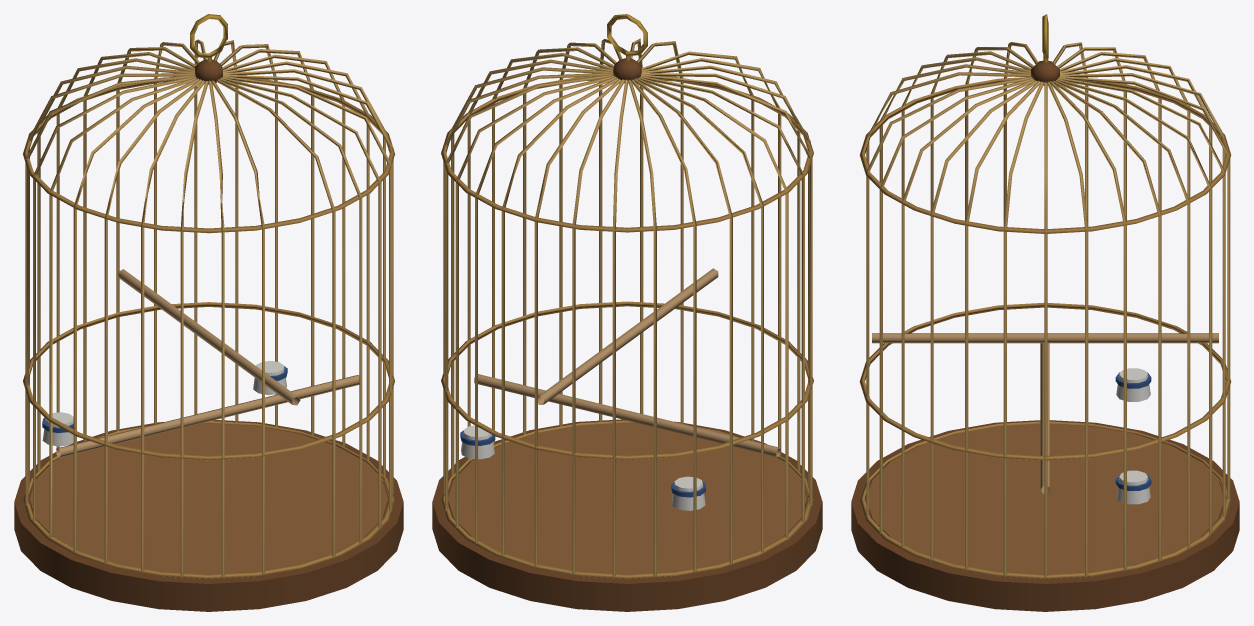
Rendered from long_tre.glb.
3 renders of one model, left to right at view 1: azimuth 30°, elevation 25°; view 2: azimuth 150°, elevation 25°; view 3: azimuth 270°, elevation 25°, orthographic.
Parts seen in each view (by area): view 1: long_tre; view 2: long_tre; view 3: long_tre.
Boxes of the visible parts, x1,y1,x2,y2 form: long_tre: (14, 14, 403, 611); long_tre: (432, 14, 822, 611); long_tre: (851, 14, 1239, 611).
Bounding box in the file's own units: 0.404 × 0.5898 × 0.404.
